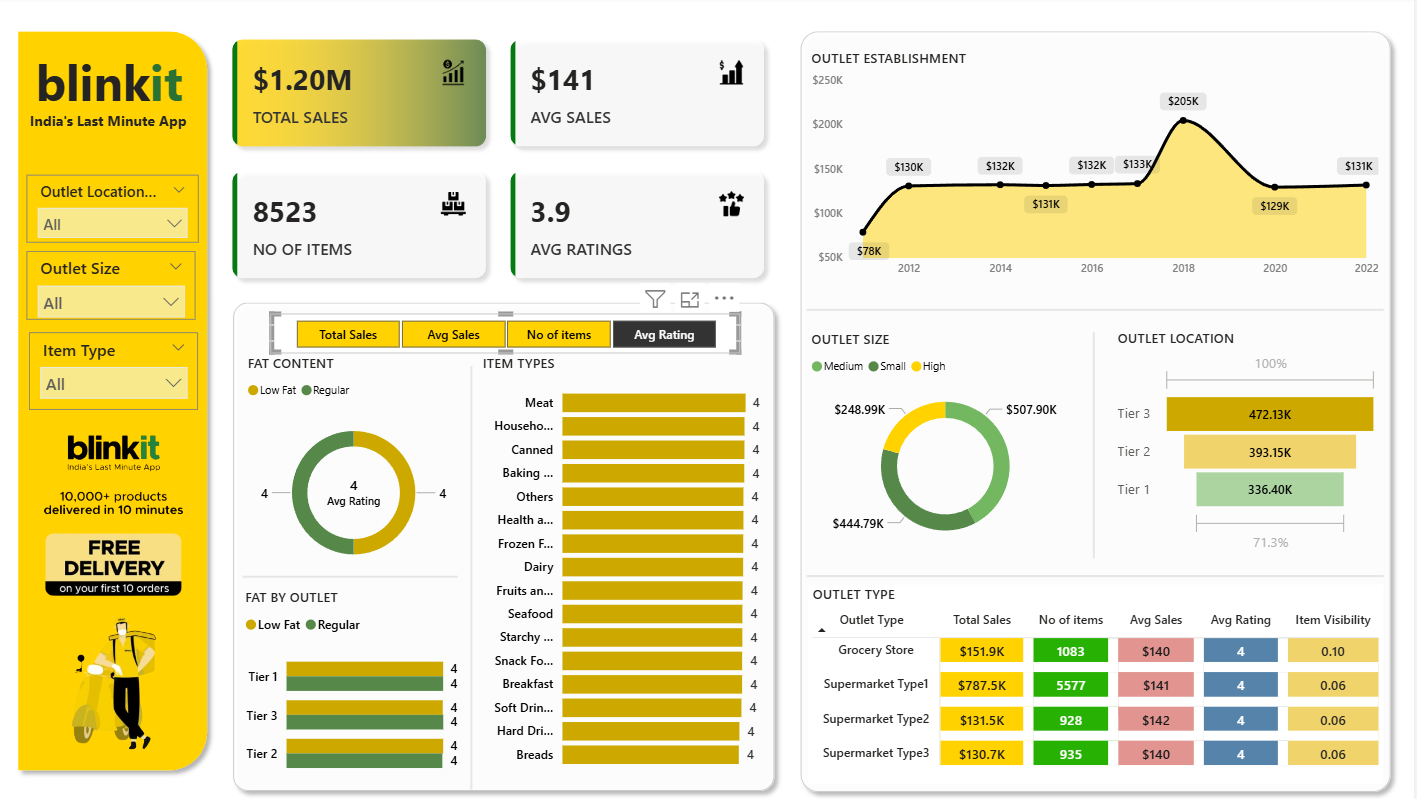

This screenshot's page, from the dashboard's own definition file:
{"tool":"powerbi","page":{"name":"Blinkit Overview","canvas":[1400,800],"ordinal":1},"visuals":[{"type":"shape","box":[9.4,25.5,205.1,749.3],"z":0},{"type":"textbox","box":[26.8,46.9,163.5,77.7],"z":1000},{"type":"textbox","box":[22.8,108.6,171.6,36.2],"z":2000},{"type":"cardVisual","fields":{"Data":["BlinkIT Grocery Data.Total Sales","BlinkIT Grocery Data.Avg Sales","BlinkIT Grocery Data.Number of items","BlinkIT Grocery Data.Avg Rating"]},"box":[214.5,25.5,561.7,270.8],"z":3000},{"type":"shape","box":[222.5,294.9,553.6,501.3],"z":4000},{"type":"donutChart","title":"FAT CONTENT","fields":{"Y":["BlinkIT Grocery Data.NO of items"],"Category":["BlinkIT Grocery Data.Item Fat Content"]},"box":[241.3,353.9,219.8,230.6],"z":5000},{"type":"slicer","fields":{"Values":[" Metrics. Metrics"]},"box":[268.1,313.7,465.1,40.2],"z":6000},{"type":"cardVisual","fields":{"Data":["BlinkIT Grocery Data.NO of items"]},"box":[300.3,457.1,101.9,59],"z":7000},{"type":"clusteredBarChart","title":"FAT BY OUTLET","fields":{"Y":["BlinkIT Grocery Data.NO of items"],"Category":["BlinkIT Grocery Data.Outlet Location Type"],"Series":["BlinkIT Grocery Data.Item Fat Content"]},"box":[239.1,585,220,200.9],"z":8000},{"type":"shape","box":[241.3,565.7,213.1,18.8],"z":9000},{"type":"shape","box":[461.1,366,12.1,419.6],"z":10000},{"type":"barChart","title":"ITEM TYPES","fields":{"Y":["BlinkIT Grocery Data.NO of items"],"Category":["BlinkIT Grocery Data.Item Type"]},"box":[473.2,353.9,284.2,420.9],"z":11000},{"type":"shape","box":[784.2,25.5,601.9,770.8],"z":12000},{"type":"lineChart","title":"OUTLET ESTABLISHMENT ","fields":{"Category":["BlinkIT Grocery Data.Outlet Establishment Year"],"Y":["BlinkIT Grocery Data.Total Sales"]},"box":[798.9,52.3,571,234.6],"z":13000},{"type":"shape","box":[798.7,301.6,571,17.4],"z":14000},{"type":"donutChart","title":"OUTLET SIZE ","fields":{"Y":["BlinkIT Grocery Data.Total Sales"],"Category":["BlinkIT Grocery Data.Outlet Size"]},"box":[798.7,330,275,225],"z":15000},{"type":"shape","box":[1077.5,332.7,12.1,223.9],"z":16000},{"type":"funnel","title":"OUTLET LOCATION","fields":{"Y":["Sum(BlinkIT Grocery Data.Sales)"],"Category":["BlinkIT Grocery Data.Outlet Location Type"]},"box":[1101.6,328.7,268.1,226.5],"z":17000},{"type":"shape","box":[798.9,565.7,571,17.4],"z":18000},{"type":"pivotTable","title":"OUTLET TYPE","fields":{"Rows":["BlinkIT Grocery Data.Outlet Type"],"Values":["BlinkIT Grocery Data.Total Sales","BlinkIT Grocery Data.NO of items","BlinkIT Grocery Data.Avg Sales","BlinkIT Grocery Data.Avg Rating","Avg(BlinkIT Grocery Data.Item Visibility)"]},"box":[800.3,583.1,569.7,197.1],"z":19000},{"type":"slicer","fields":{"Values":["BlinkIT Grocery Data.Outlet Location Type"]},"box":[26.8,176.9,170.2,67],"z":20000},{"type":"slicer","fields":{"Values":["BlinkIT Grocery Data.Outlet Size"]},"box":[27.2,252.3,170.7,76.7],"z":21000},{"type":"slicer","fields":{"Values":["BlinkIT Grocery Data.Item Type"]},"box":[29.5,332.4,167.6,76.4],"z":22000},{"type":"image","box":[29.7,420.5,167,335.2],"z":23000}]}

Visuals, with their boxes in screenshot pixels (x1, y1, x2, y2), scaled from the page's 1400x800 canvas onto the 1417x799 screenshot:
shape: <region>10, 25, 217, 774</region>
textbox: <region>27, 47, 193, 124</region>
textbox: <region>23, 108, 197, 145</region>
cardVisual - BlinkIT Grocery Data.Total Sales x BlinkIT Grocery Data.Avg Sales: <region>217, 25, 786, 296</region>
shape: <region>225, 295, 786, 795</region>
"FAT CONTENT" donutChart: <region>244, 353, 467, 584</region>
slicer -  Metrics. Metrics: <region>271, 313, 742, 353</region>
cardVisual - BlinkIT Grocery Data.NO of items: <region>304, 457, 407, 515</region>
"FAT BY OUTLET" clusteredBarChart: <region>242, 584, 465, 785</region>
shape: <region>244, 565, 460, 584</region>
shape: <region>467, 366, 479, 785</region>
"ITEM TYPES" barChart: <region>479, 353, 767, 774</region>
shape: <region>794, 25, 1403, 795</region>
"OUTLET ESTABLISHMENT " lineChart: <region>809, 52, 1387, 287</region>
shape: <region>808, 301, 1386, 319</region>
"OUTLET SIZE " donutChart: <region>808, 330, 1087, 554</region>
shape: <region>1091, 332, 1103, 556</region>
"OUTLET LOCATION" funnel: <region>1115, 328, 1386, 555</region>
shape: <region>809, 565, 1387, 582</region>
"OUTLET TYPE" pivotTable: <region>810, 582, 1387, 779</region>
slicer - BlinkIT Grocery Data.Outlet Location Type: <region>27, 177, 199, 244</region>
slicer - BlinkIT Grocery Data.Outlet Size: <region>28, 252, 200, 329</region>
slicer - BlinkIT Grocery Data.Item Type: <region>30, 332, 199, 408</region>
image: <region>30, 420, 199, 755</region>
